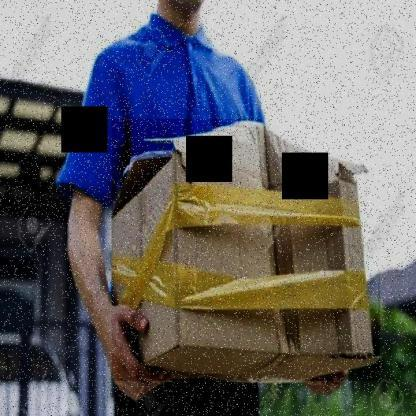-: (112, 119, 381, 381)
